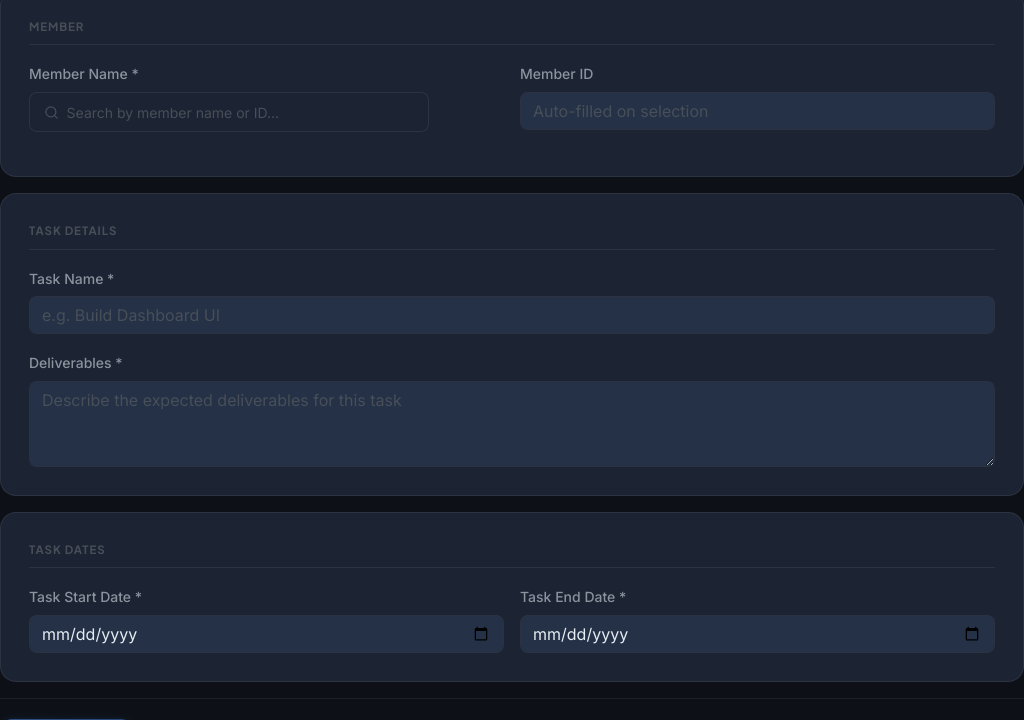
Test case: AssignTaskPage › should show validation error for missing task start date
(page scrolled)
Click the date field labelled "Task Start Date *": [266, 634] box x1=29 y1=615 x2=504 y2=653
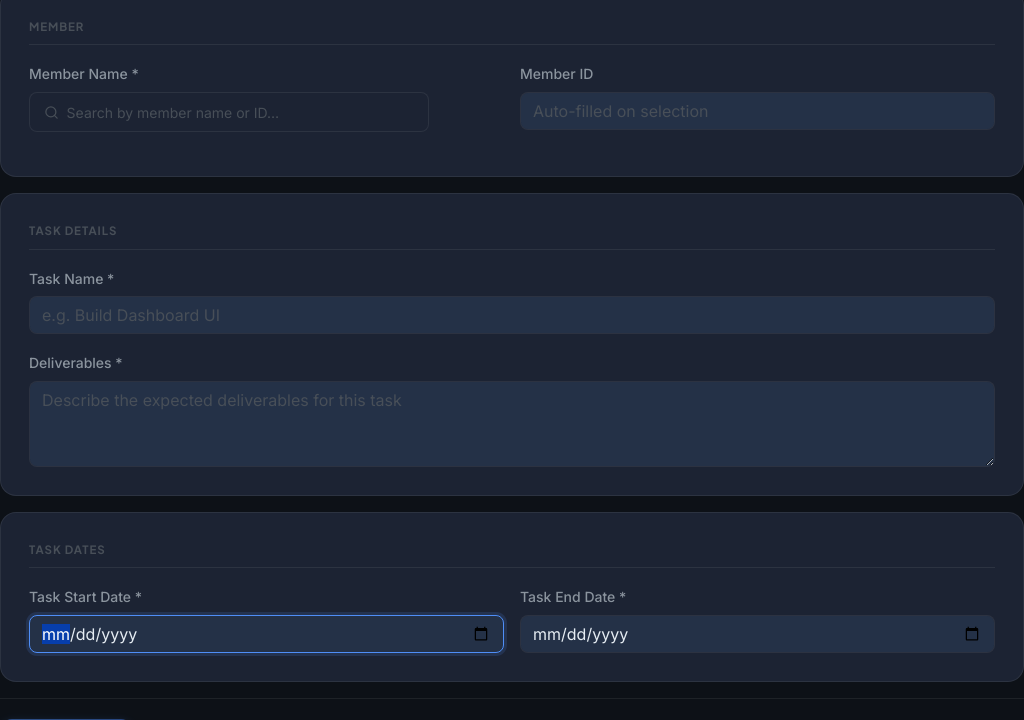
Press Tab
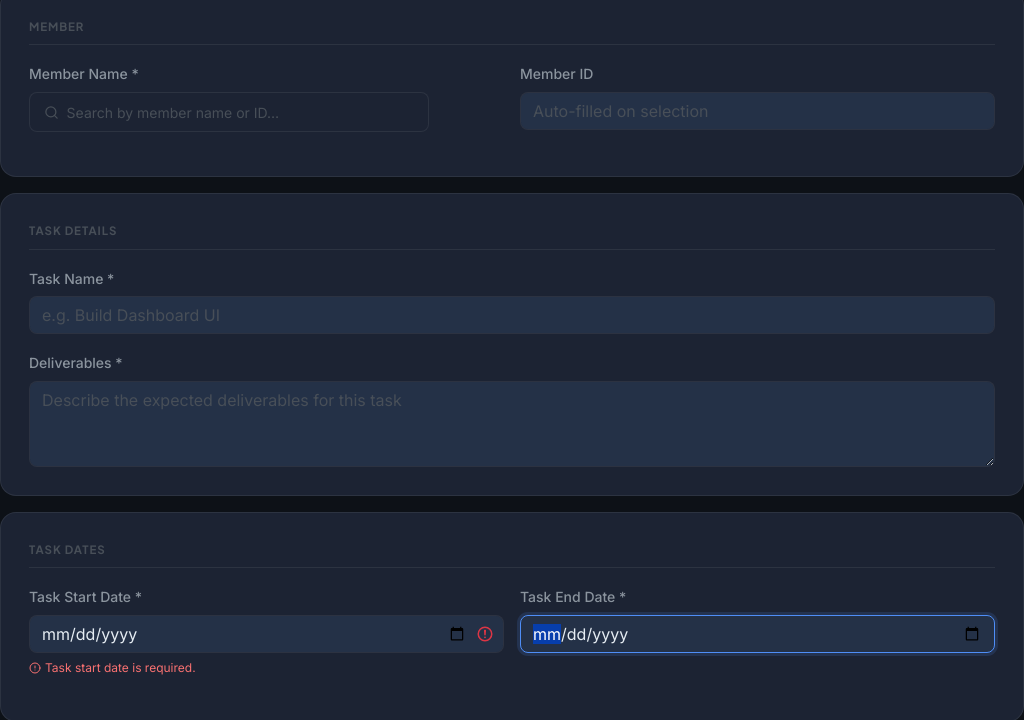
Now the text "Task start date is required." is shown, box x1=29 y1=660 x2=196 y2=675
